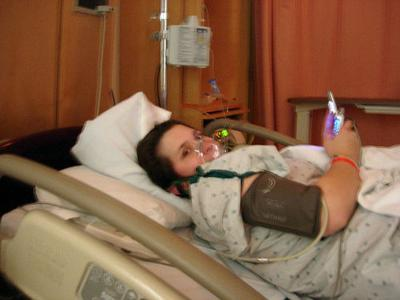person: (136, 120, 400, 298)
